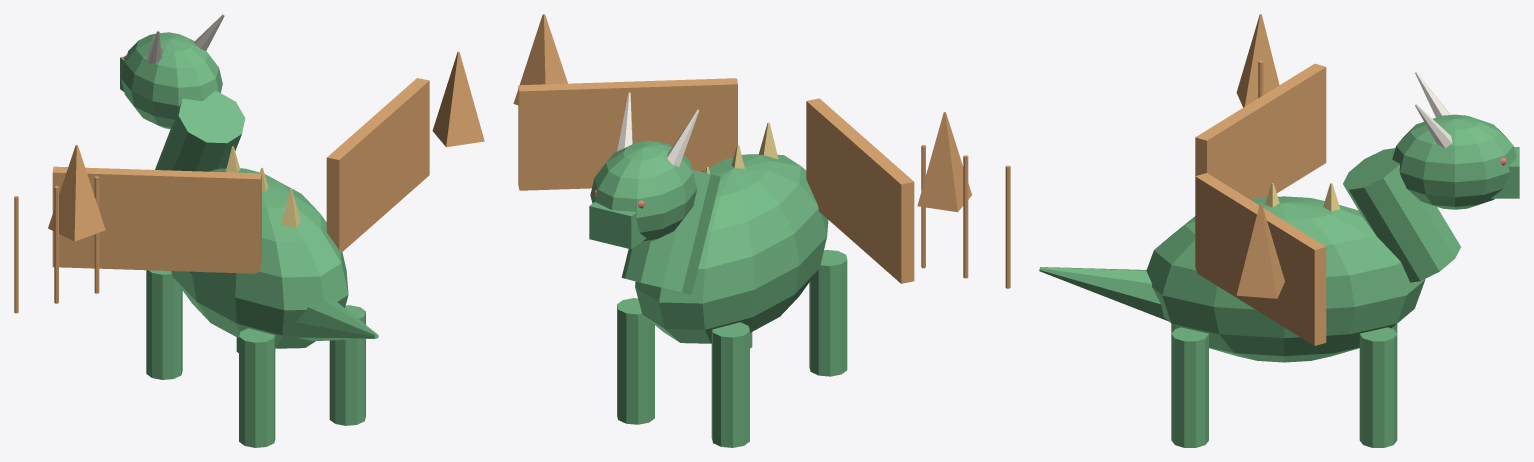
Rendered from dragon.glb.
The picture shows the model from 3 angles, left to right: view 1: azimuth 30°, elevation 25°; view 2: azimuth 150°, elevation 25°; view 3: azimuth 270°, elevation 25°; orthographic projection. The views are drawn at different scales.
Parts seen in each view (by area): view 1: dragon_wing_L, dragon_body, dragon_wing_R, dragon_head, dragon_neck, dragon_leg_BL, dragon_leg_FL, dragon_leg_BR, dragon_wing_L_ujung, dragon_wing_R_ujung, dragon_tail, dragon_wing_kiri_r0 (+2 smaller); view 2: dragon_body, dragon_wing_R, dragon_wing_L, dragon_head, dragon_neck, dragon_leg_FL, dragon_leg_BL, dragon_leg_FR, dragon_wing_L_ujung, dragon_wing_R_ujung, dragon_moncong, dragon_wing_kiri_r0 (+4 smaller); view 3: dragon_body, dragon_wing_R, dragon_wing_L, dragon_head, dragon_neck, dragon_leg_FR, dragon_leg_BR, dragon_tail, dragon_wing_R_ujung, dragon_wing_L_ujung, dragon_moncong, dragon_horn_1.
Part boxes in pixels (left/top/right/bottom): dragon_wing_L: left=52, top=166, right=261, bottom=273; dragon_body: left=171, top=168, right=348, bottom=348; dragon_wing_R: left=326, top=78, right=429, bottom=252; dragon_head: left=121, top=32, right=222, bottom=129; dragon_neck: left=155, top=91, right=245, bottom=171; dragon_leg_BL: left=239, top=328, right=275, bottom=447; dragon_leg_FL: left=146, top=270, right=182, bottom=379; dragon_leg_BR: left=329, top=305, right=365, bottom=425; dragon_wing_L_ujung: left=48, top=145, right=105, bottom=241; dragon_wing_R_ujung: left=432, top=51, right=484, bottom=147; dragon_tail: left=295, top=299, right=378, bottom=341; dragon_wing_kiri_r0: left=14, top=196, right=18, bottom=313; dragon_body: left=635, top=154, right=828, bottom=343; dragon_wing_R: left=518, top=78, right=737, bottom=190; dragon_wing_L: left=806, top=98, right=914, bottom=283; dragon_head: left=590, top=141, right=697, bottom=243; dragon_neck: left=621, top=169, right=720, bottom=294; dragon_leg_FL: left=711, top=322, right=749, bottom=447; dragon_leg_BL: left=809, top=250, right=847, bottom=376; dragon_leg_FR: left=617, top=298, right=654, bottom=424; dragon_wing_L_ujung: left=917, top=112, right=971, bottom=212; dragon_wing_R_ujung: left=513, top=14, right=567, bottom=105; dragon_moncong: left=589, top=202, right=646, bottom=249; dragon_wing_kiri_r0: left=1005, top=165, right=1010, bottom=288; dragon_body: left=1146, top=196, right=1425, bottom=362; dragon_wing_R: left=1195, top=173, right=1326, bottom=345; dragon_wing_L: left=1195, top=63, right=1326, bottom=199; dragon_head: left=1392, top=114, right=1516, bottom=209; dragon_neck: left=1343, top=148, right=1460, bottom=282; dragon_leg_FR: left=1359, top=327, right=1397, bottom=447; dragon_leg_BR: left=1171, top=327, right=1208, bottom=447; dragon_tail: left=1039, top=267, right=1168, bottom=321; dragon_wing_R_ujung: left=1236, top=203, right=1284, bottom=298; dragon_wing_L_ujung: left=1236, top=14, right=1279, bottom=107; dragon_moncong: left=1491, top=147, right=1519, bottom=198; dragon_horn_1: left=1415, top=104, right=1452, bottom=148.
Bounding box in the file's own units: 4.62 × 3.09 × 4.08.
